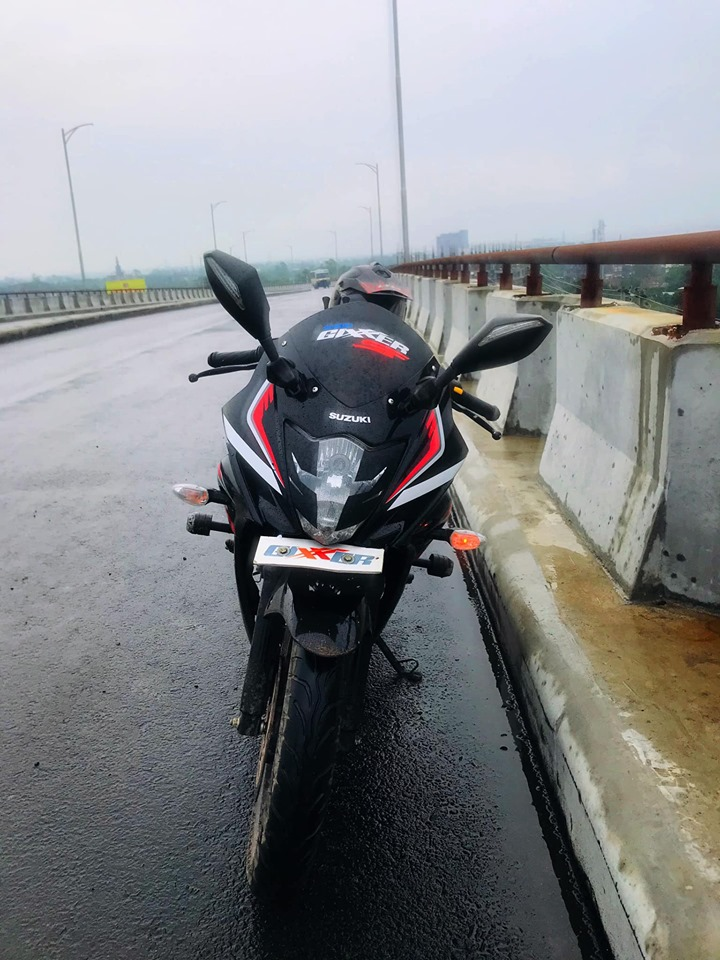bike: (170, 252, 549, 904)
